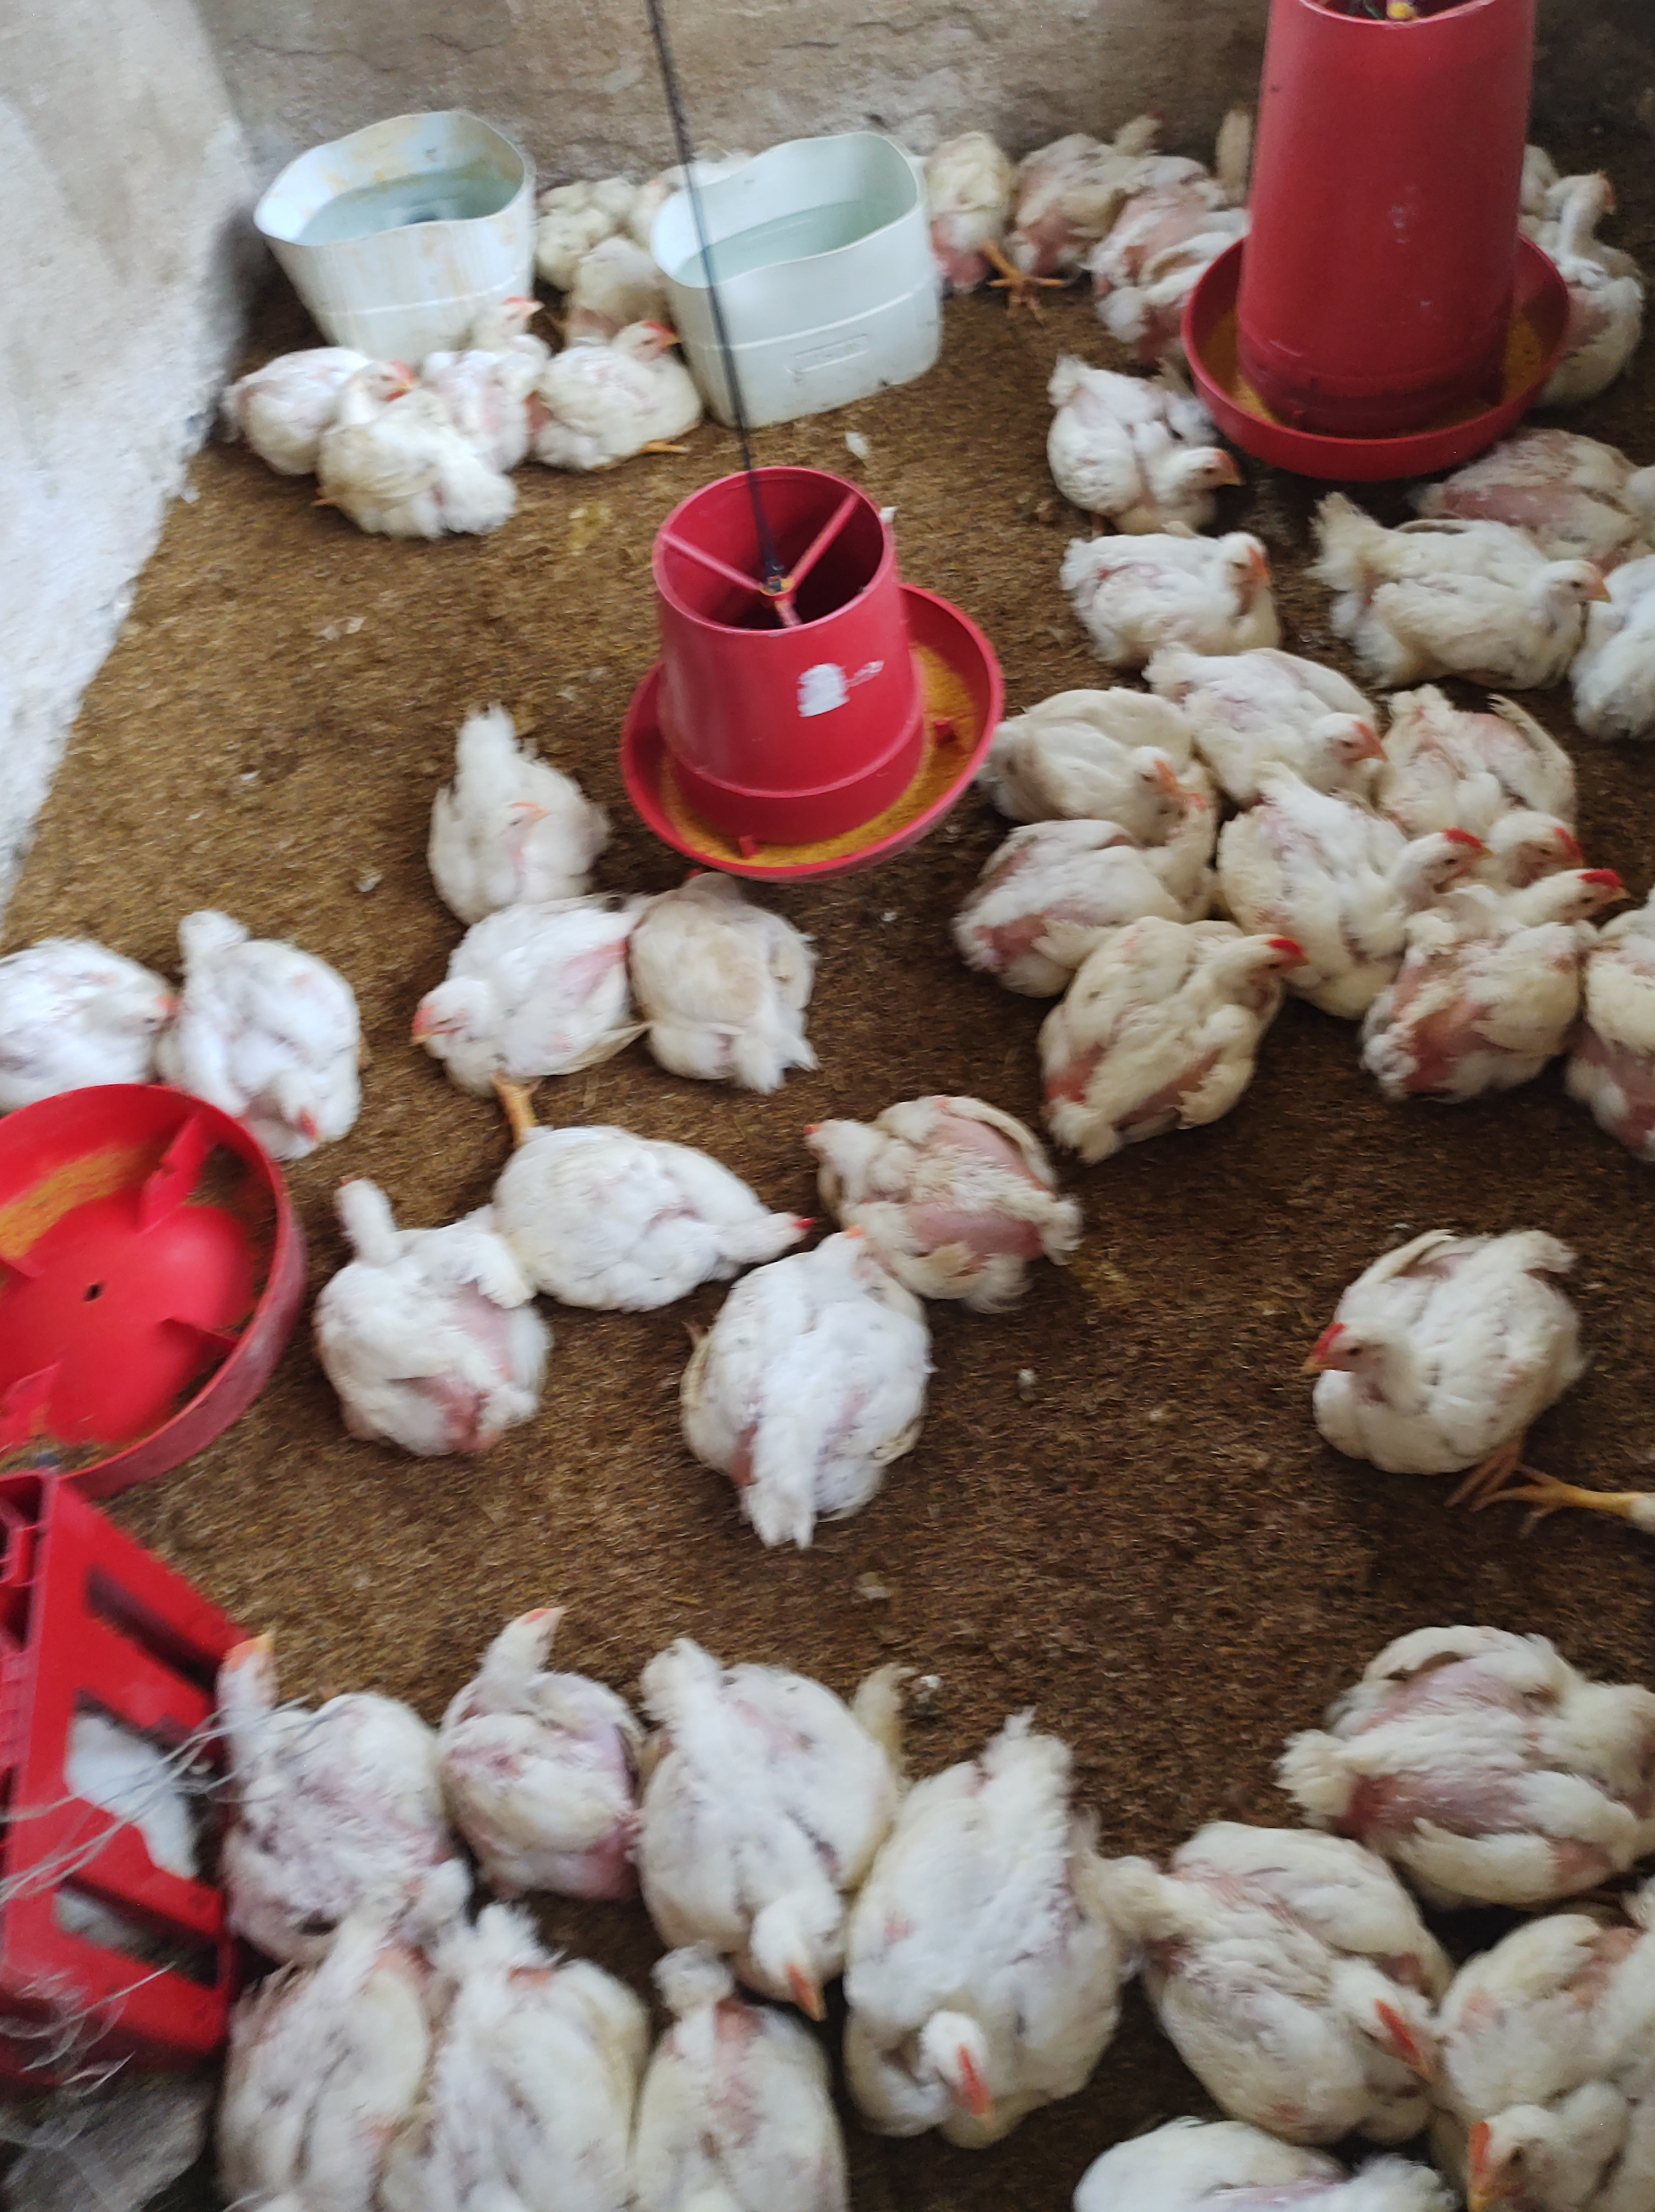Pollos: (876, 1751, 1172, 2155), (657, 1616, 895, 2009), (1318, 1605, 1648, 1882), (1158, 1819, 1434, 2115), (1290, 1226, 1599, 1480), (183, 1591, 435, 1897), (681, 1224, 911, 1555), (212, 1883, 433, 2210), (285, 1181, 542, 1445), (504, 1085, 810, 1303), (1432, 1915, 1655, 2212), (1379, 864, 1643, 1111), (445, 1577, 654, 1882), (796, 1097, 1078, 1316), (398, 875, 628, 1137), (431, 1922, 633, 2212), (635, 856, 861, 1090), (179, 887, 374, 1148), (1073, 929, 1304, 1146), (1354, 503, 1606, 682), (635, 2010, 845, 2212), (409, 699, 619, 878), (1055, 332, 1227, 520), (1182, 631, 1389, 781), (986, 664, 1184, 807), (1062, 525, 1278, 650), (1432, 704, 1589, 868), (553, 316, 715, 471), (1521, 148, 1653, 325), (438, 276, 565, 457), (68, 941, 216, 1092), (221, 346, 445, 443), (918, 113, 1024, 308), (1182, 110, 1293, 230), (1359, 810, 1460, 922), (1154, 786, 1269, 880), (1085, 92, 1189, 169)
